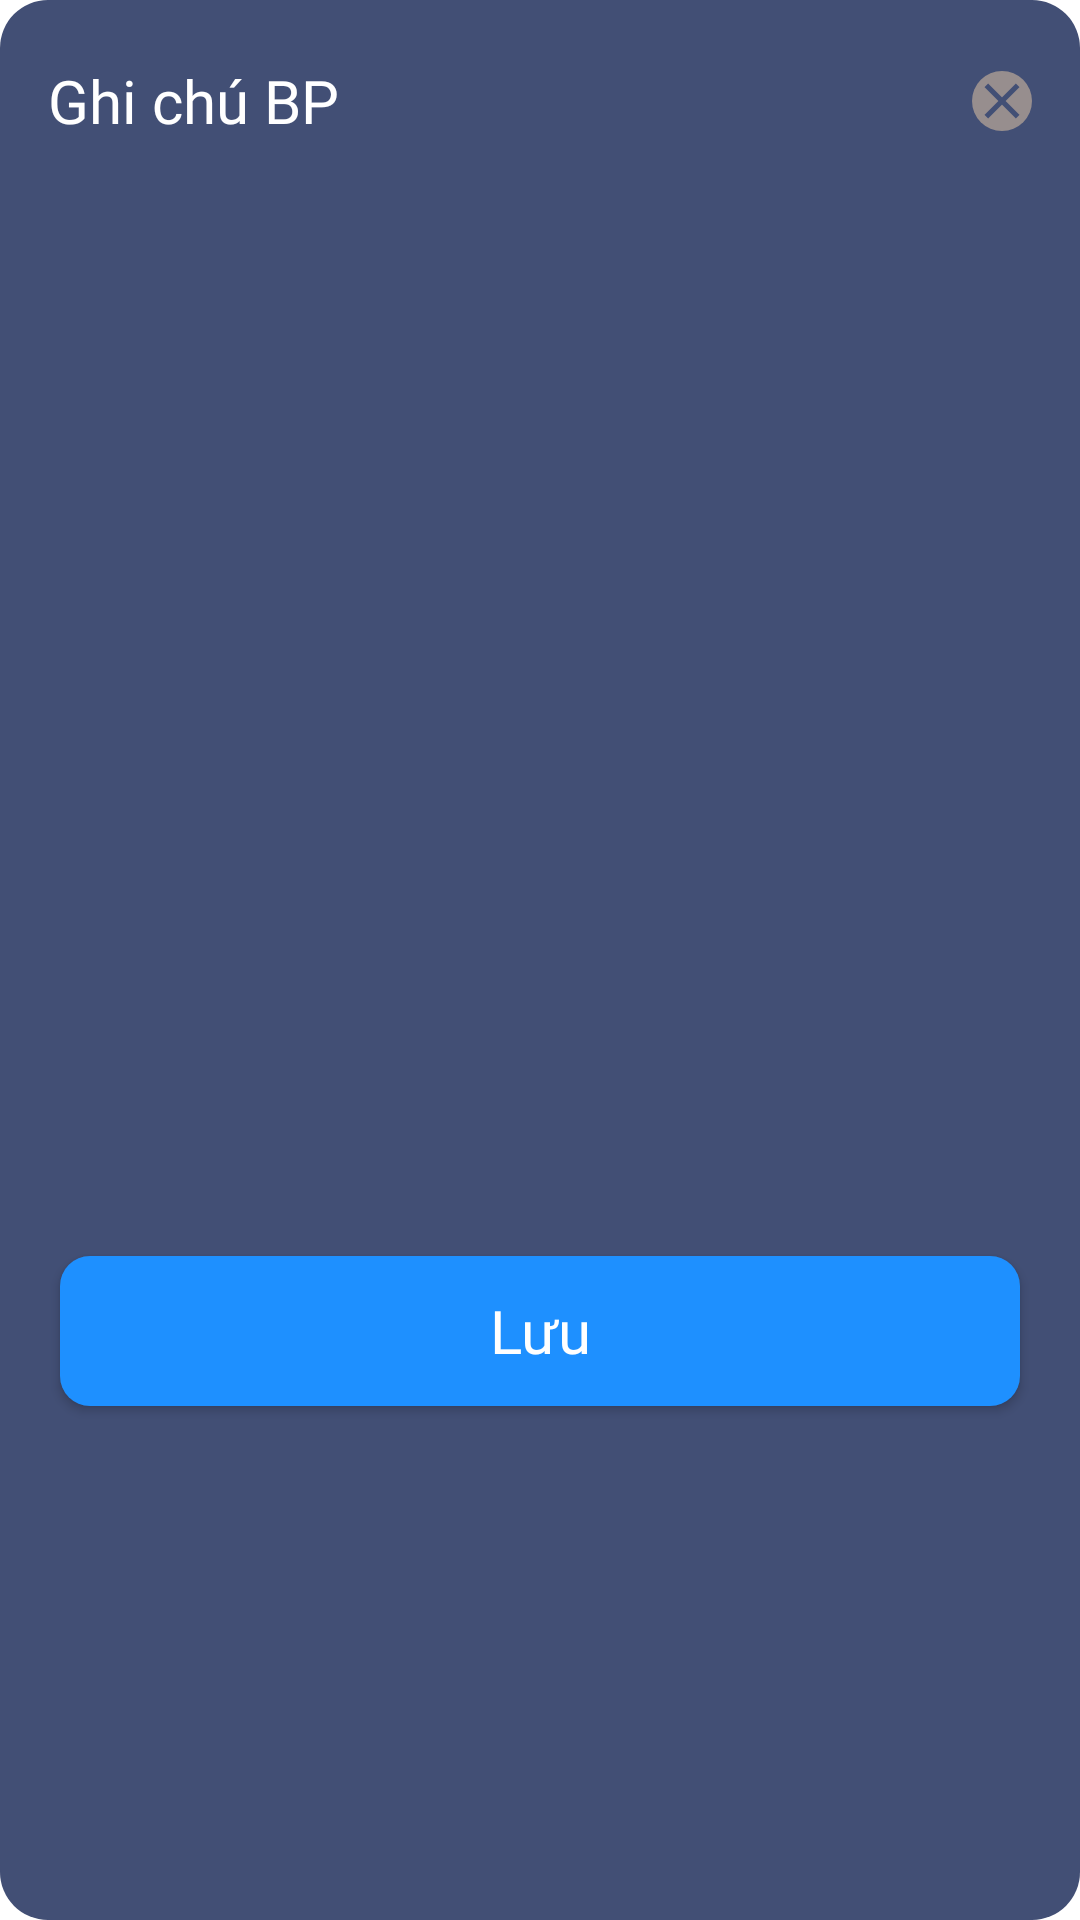

Icons on this 1080×1920 Android screen, each with its box as (x1, y1, x2, y2):
cancel: (972, 71, 1032, 131)
